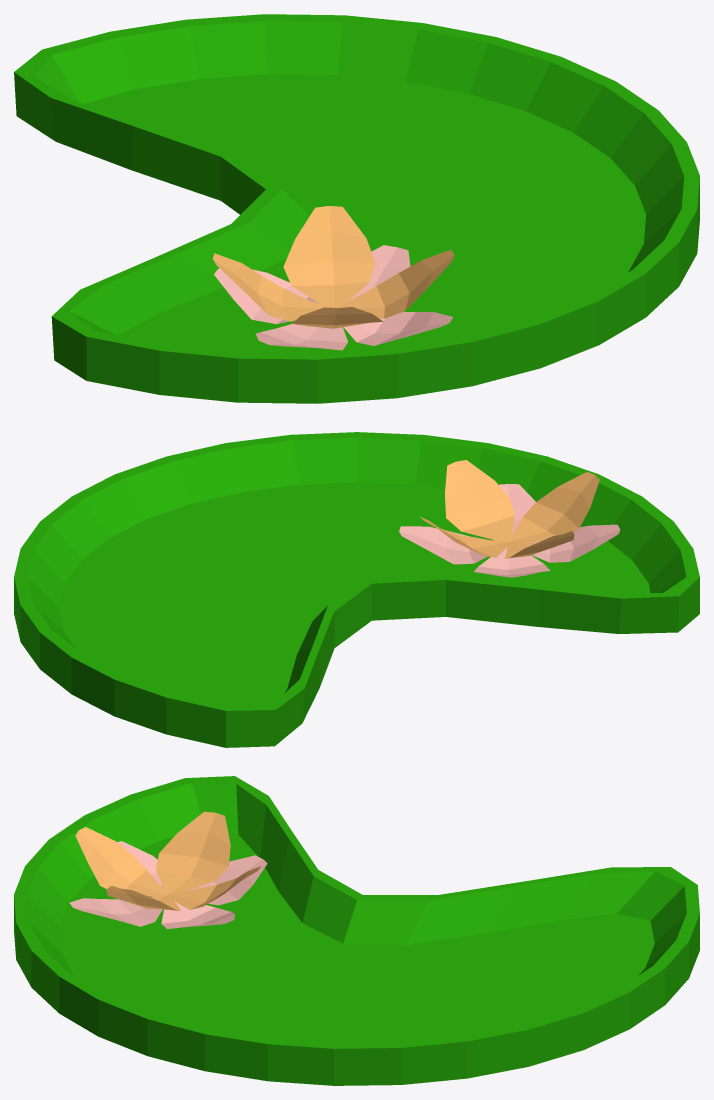
File: waterlily_half_flower.obj
3 views of the same model, one above another, from view 1: azimuth 30°, elevation 25°; view 2: azimuth 150°, elevation 25°; view 3: azimuth 270°, elevation 25° (orthographic). The views are drawn at different scales.
Parts seen in each view (by area): view 1: Waterlily_Half_Cylinder.009, Flower_White_Plane.002; view 2: Waterlily_Half_Cylinder.009, Flower_White_Plane.002; view 3: Waterlily_Half_Cylinder.009, Flower_White_Plane.002.
Boxes of the visible parts, x1,y1,x2,y2 form: Waterlily_Half_Cylinder.009: (14,14,699,403); Flower_White_Plane.002: (213,206,454,350); Waterlily_Half_Cylinder.009: (14,432,699,747); Flower_White_Plane.002: (399,460,620,577); Waterlily_Half_Cylinder.009: (14,776,699,1085); Flower_White_Plane.002: (69,811,267,928).
Size of the model in its own units: 0.3684 by 0.0388 by 0.3914.
